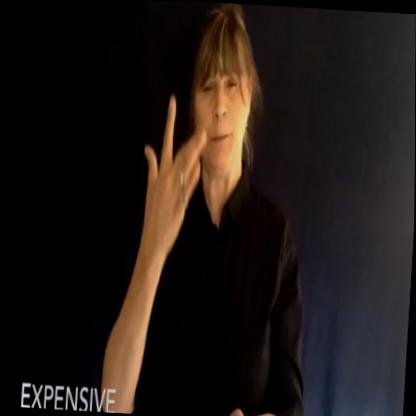Expensive: (120, 86, 280, 416)
